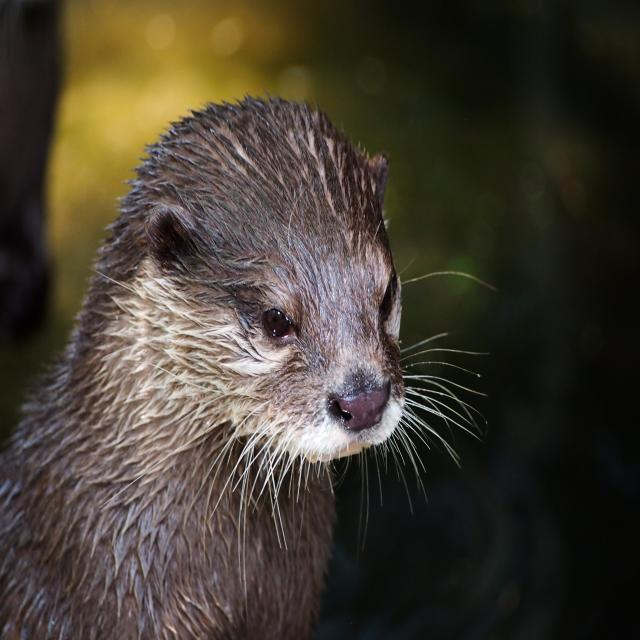otter: (1, 99, 408, 640)
